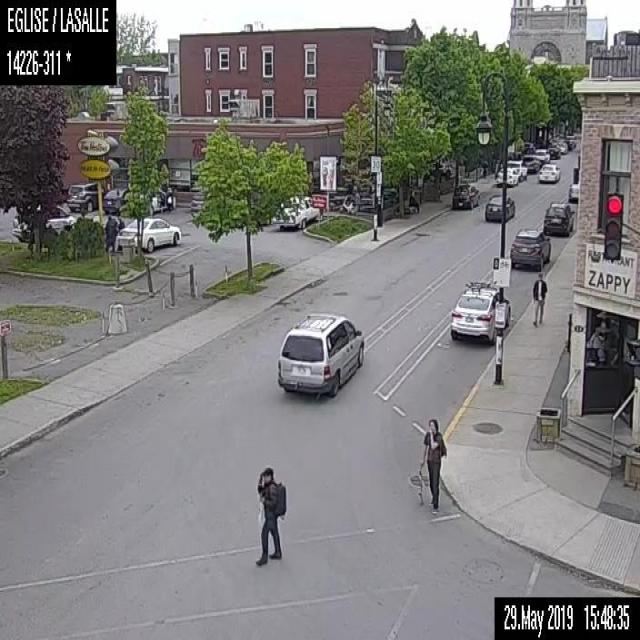pedestrian: (256, 466, 286, 566), (419, 416, 446, 507), (531, 270, 546, 328), (104, 214, 116, 248), (116, 216, 125, 250), (409, 190, 419, 212), (165, 186, 173, 211)
vehicle: (274, 312, 364, 396), (448, 277, 513, 343), (11, 202, 76, 243), (116, 214, 180, 251), (507, 228, 551, 270), (274, 194, 318, 227), (543, 199, 573, 239), (66, 182, 104, 212), (484, 192, 516, 221), (147, 185, 176, 215), (452, 181, 479, 208), (101, 186, 127, 209), (505, 158, 528, 182), (538, 162, 560, 185), (494, 166, 517, 186), (522, 154, 539, 172), (534, 147, 552, 162), (546, 142, 561, 158), (568, 182, 578, 202), (564, 133, 575, 149), (556, 142, 567, 154)
